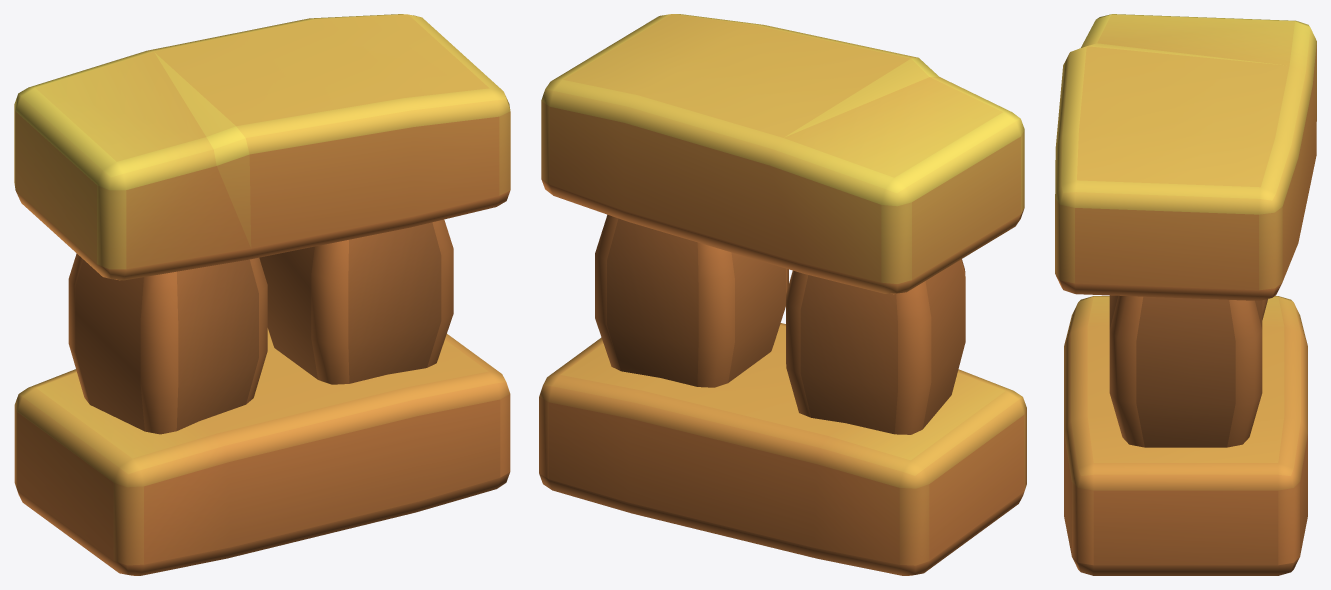
The model's file is rail2_stone.fbx.
3 renders of one model, left to right at view 1: azimuth 30°, elevation 25°; view 2: azimuth 150°, elevation 25°; view 3: azimuth 270°, elevation 25°, orthographic. The views are drawn at different scales.
Parts seen in each view (by area): view 1: rail2_stone; view 2: rail2_stone; view 3: rail2_stone.
Boxes of the visible parts, x1=… form: rail2_stone: x1=14, y1=14, x2=510, y2=575; rail2_stone: x1=539, y1=14, x2=1026, y2=575; rail2_stone: x1=1055, y1=14, x2=1316, y2=575.
Size of the model in its own units: 109 by 109 by 63.45.
